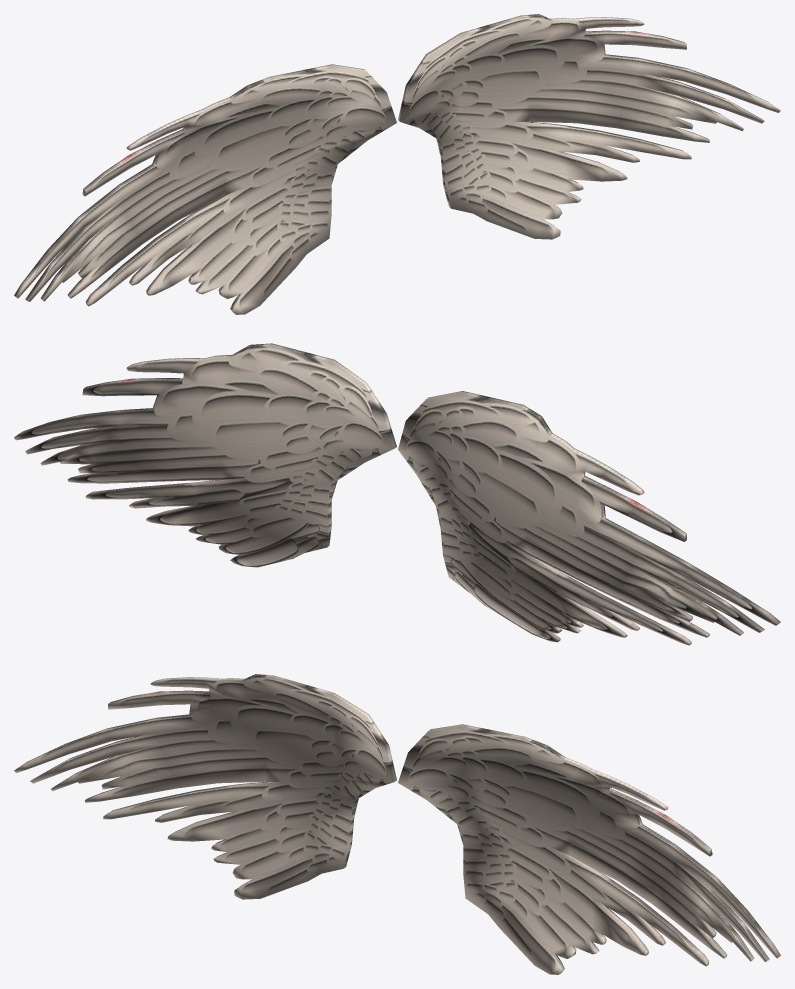
File: wings03.obj
3 renders of one model, top to bottom at view 1: azimuth 30°, elevation 25°; view 2: azimuth 150°, elevation 25°; view 3: azimuth 330°, elevation 25°, orthographic.
Visible parts, largest first — view 1: use002, use01; view 2: use01, use002; view 3: use01, use002.
Boxes of the visible parts, x1,y1,x2,y2 form: use002: (14, 64, 396, 314); use01: (398, 14, 780, 239); use01: (14, 343, 396, 567); use002: (398, 391, 780, 645); use01: (398, 724, 780, 974); use002: (14, 674, 396, 899).
Size of the model in its own units: 118 by 33.83 by 6.54.
